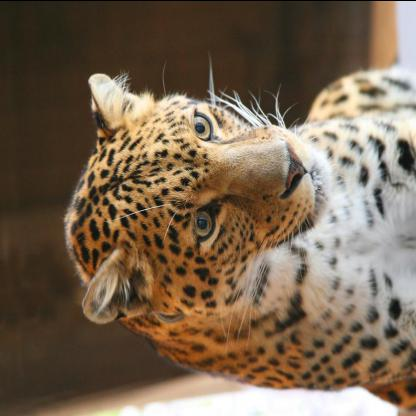leopard: (77, 64, 325, 341)
